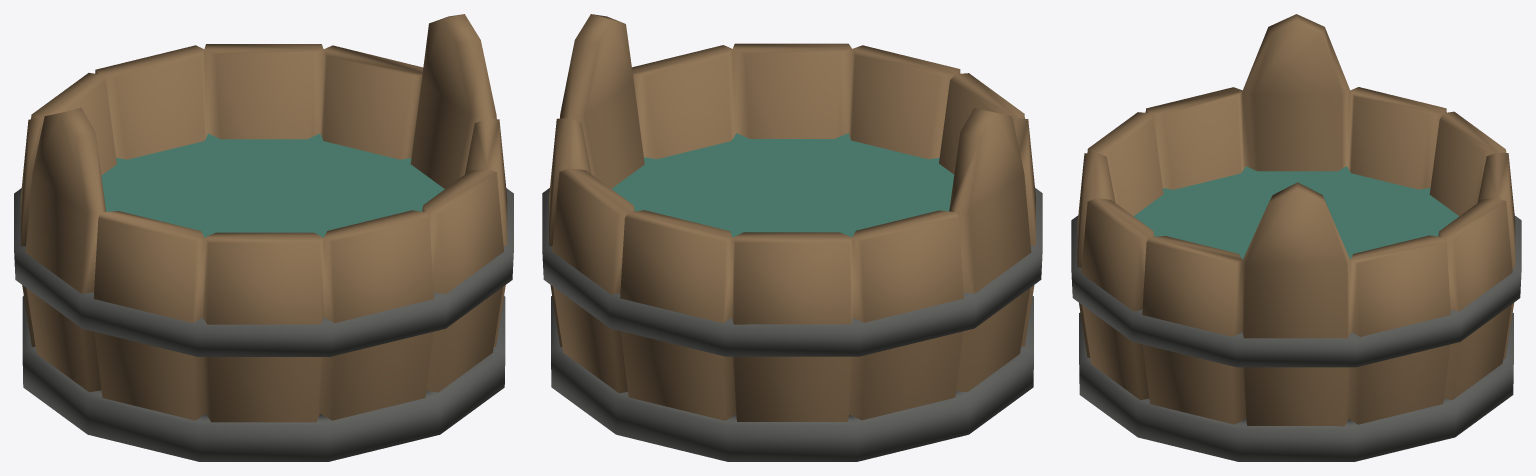
The model's file is rpgpp_ag_bathtub_wood_01b.fbx.
The picture shows the model from 3 angles, left to right: view 1: azimuth 30°, elevation 25°; view 2: azimuth 150°, elevation 25°; view 3: azimuth 270°, elevation 25°; orthographic projection. The views are drawn at different scales.
Parts seen in each view (by area): view 1: rpgpp_ag_bathtub_wood_01b; view 2: rpgpp_ag_bathtub_wood_01b; view 3: rpgpp_ag_bathtub_wood_01b.
Boxes of the visible parts, <box> form: rpgpp_ag_bathtub_wood_01b: <box>14,14,513,461</box>; rpgpp_ag_bathtub_wood_01b: <box>542,14,1042,461</box>; rpgpp_ag_bathtub_wood_01b: <box>1071,14,1521,461</box>.
Size of the model in its own units: 1.29 by 0.8487 by 1.29.
